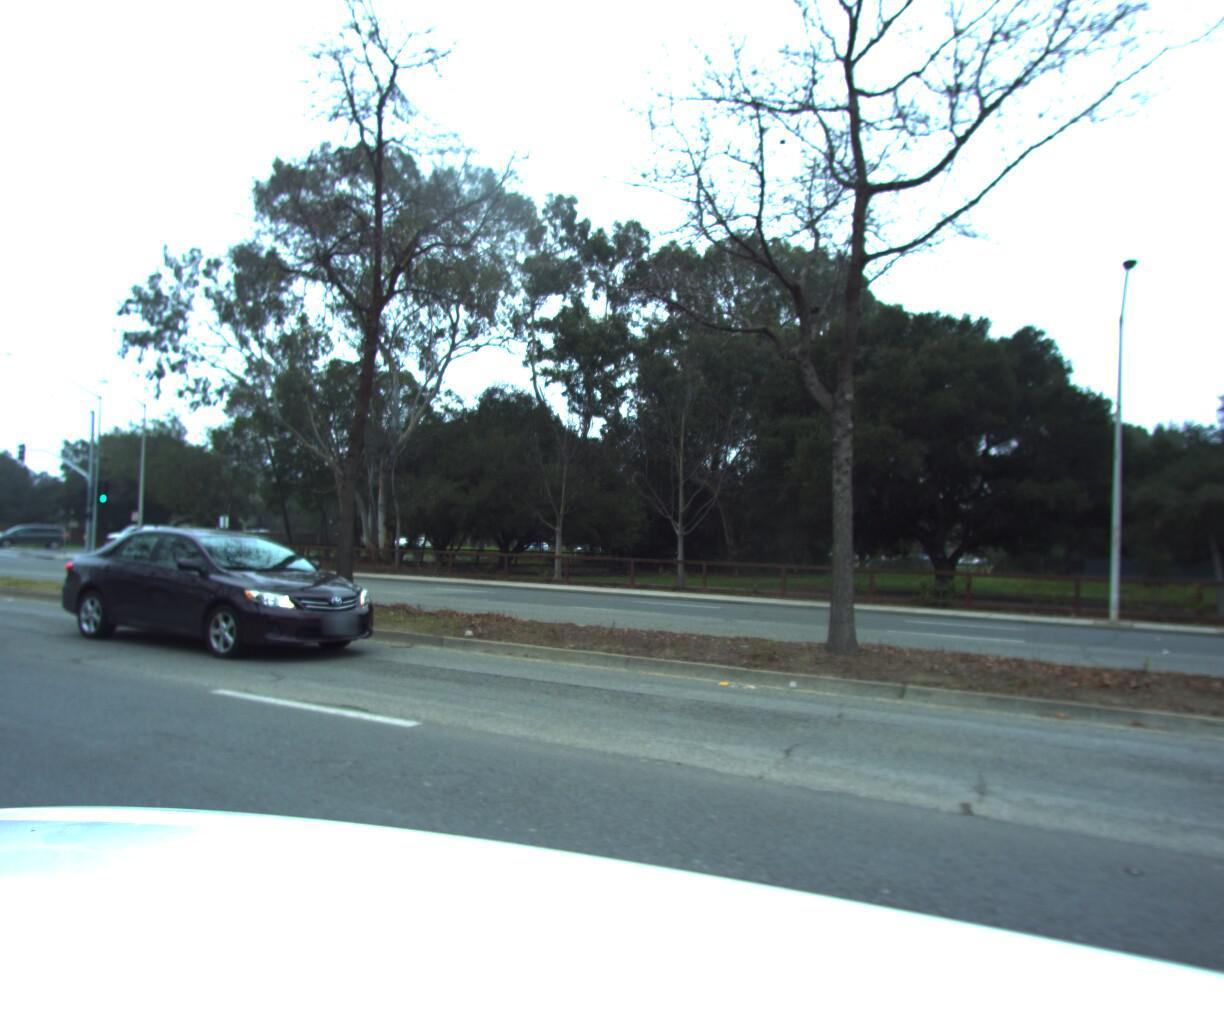car: (44, 518, 406, 673), (98, 517, 187, 548), (0, 519, 72, 547)
